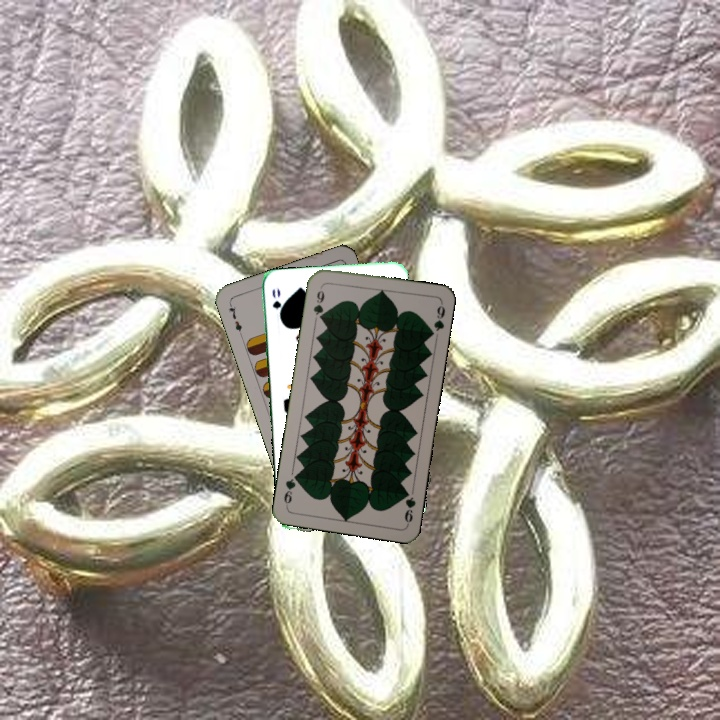E7: (224, 299, 245, 338)
G9: (400, 485, 418, 527), (309, 282, 327, 323)
GO: (268, 284, 285, 324)
